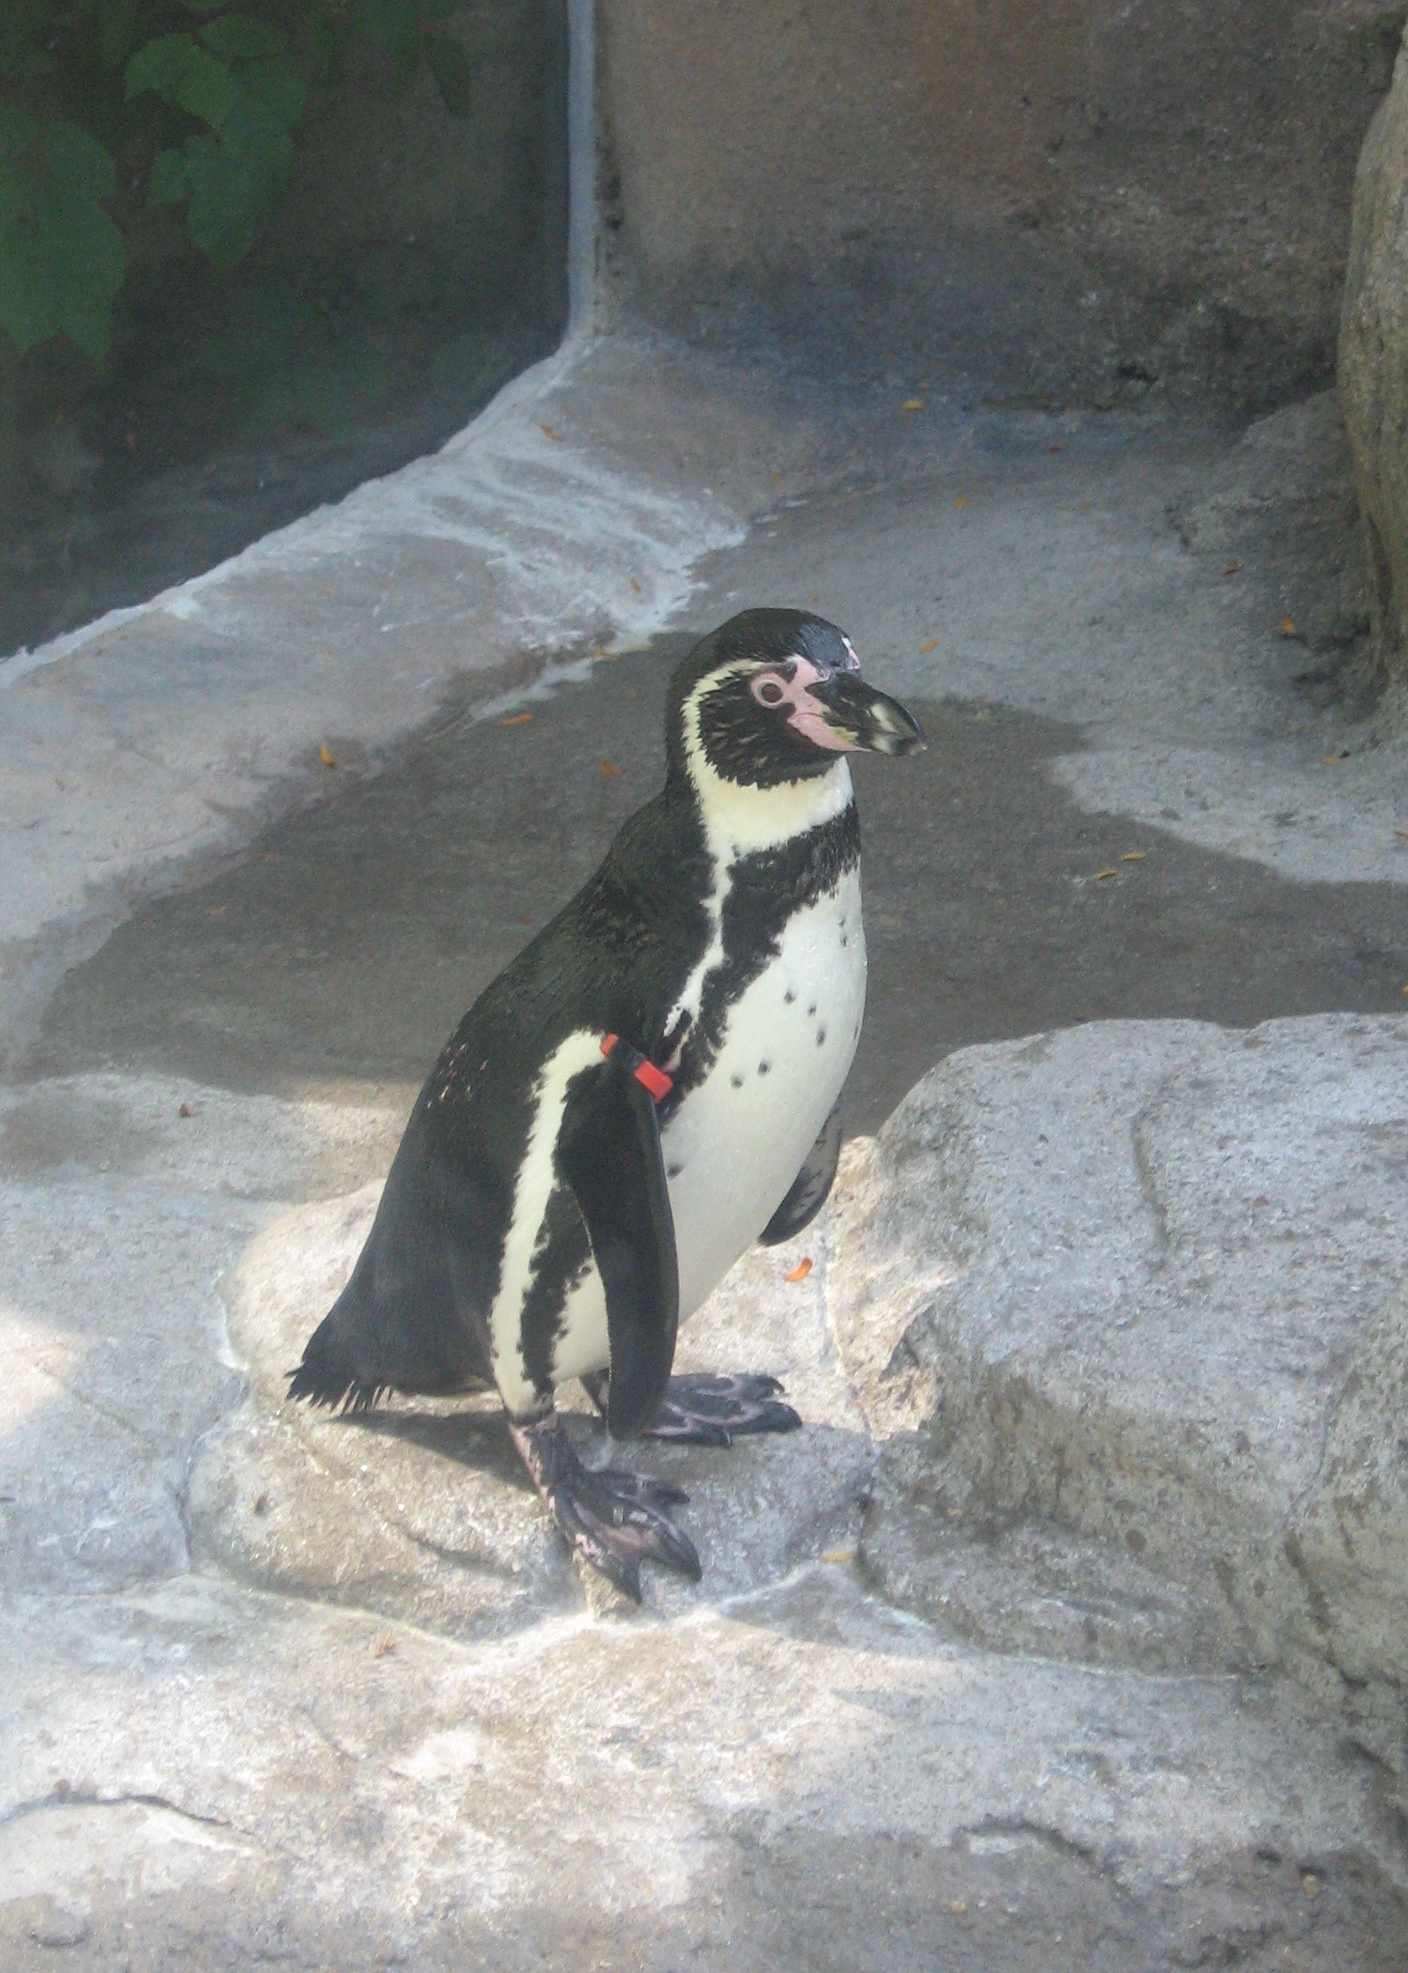penguin: (329, 611, 943, 1616)
